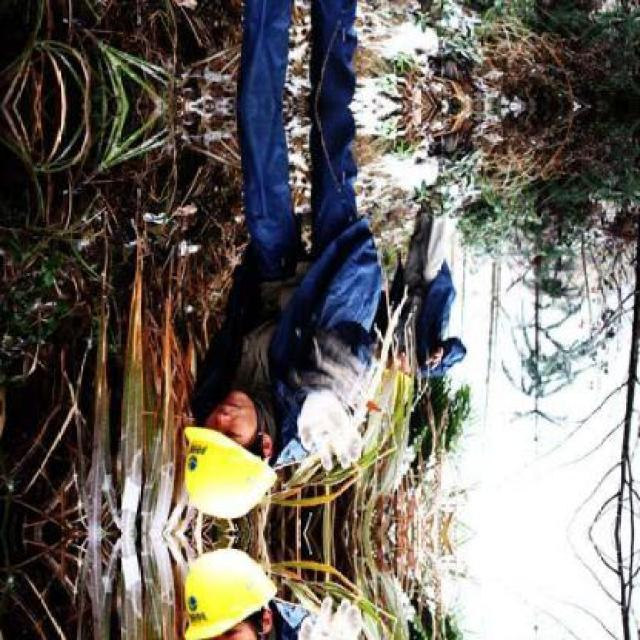safetyhelmet: (180, 421, 276, 531)
